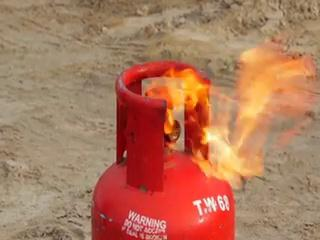Fire: (120, 26, 259, 177)
